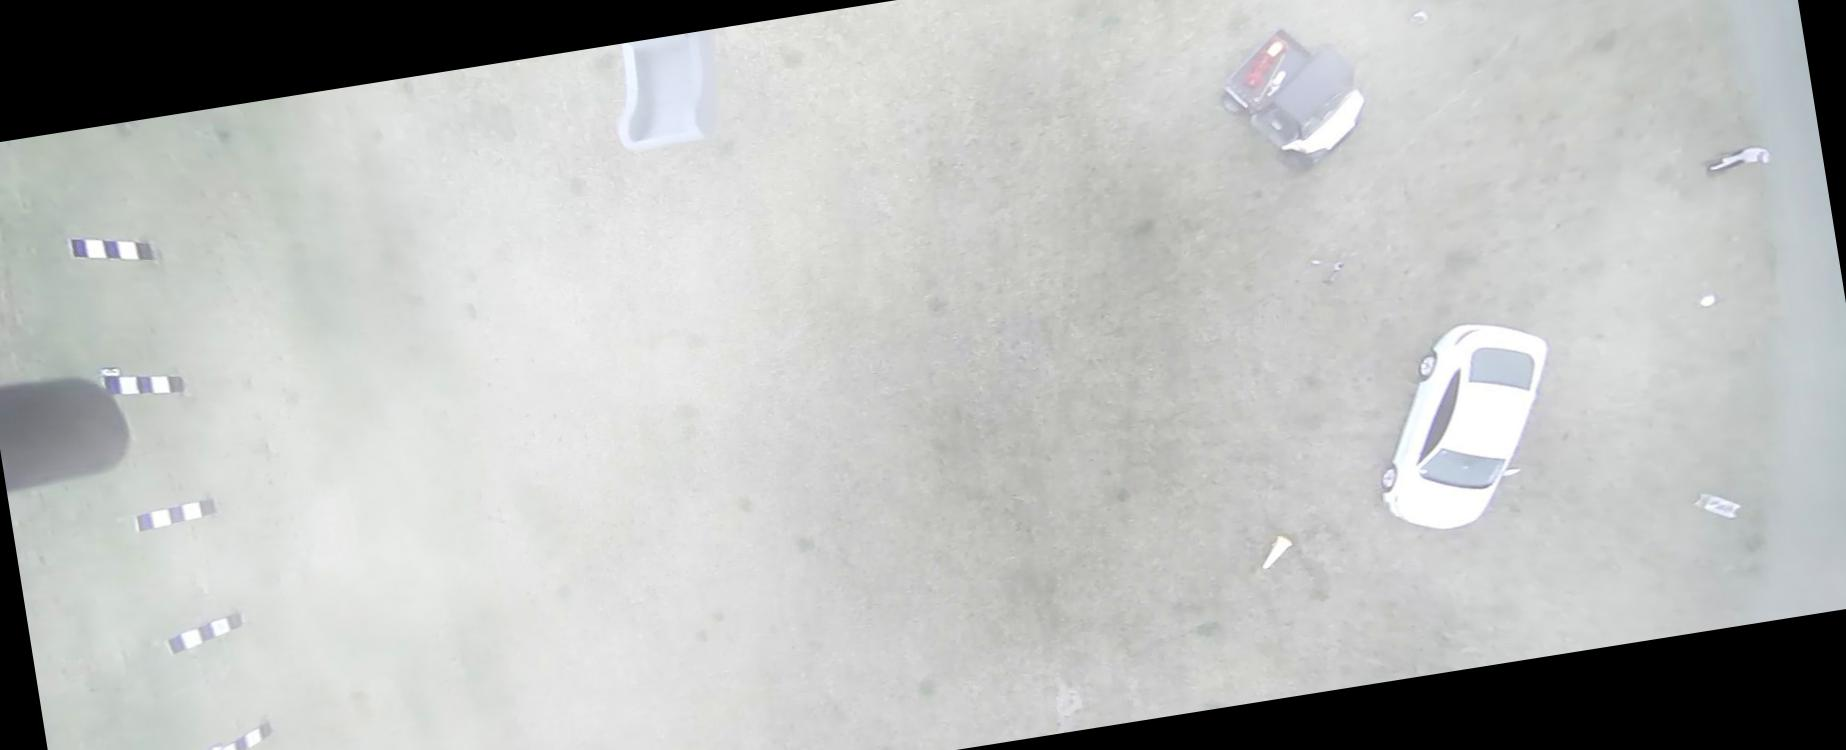vehicle: (1357, 311, 1576, 538), (1210, 14, 1375, 182)
